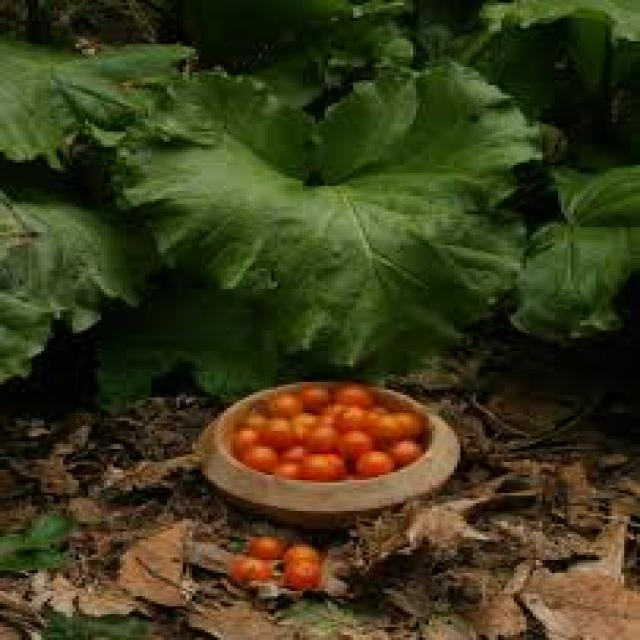organic waste: (101, 70, 520, 372), (0, 191, 158, 377), (501, 163, 637, 338), (0, 34, 177, 165), (470, 0, 637, 72), (243, 537, 290, 560), (227, 560, 268, 586), (236, 447, 278, 472), (328, 436, 378, 457), (300, 459, 344, 480), (300, 428, 344, 449), (347, 452, 391, 472), (287, 392, 334, 410), (280, 566, 318, 588), (256, 424, 296, 442), (372, 416, 404, 436), (271, 460, 306, 478), (382, 442, 419, 459), (334, 408, 375, 423), (331, 390, 372, 405), (227, 431, 268, 444), (400, 411, 422, 434), (264, 400, 302, 413), (237, 416, 274, 428), (274, 446, 312, 457), (284, 547, 315, 560), (287, 415, 318, 426)
